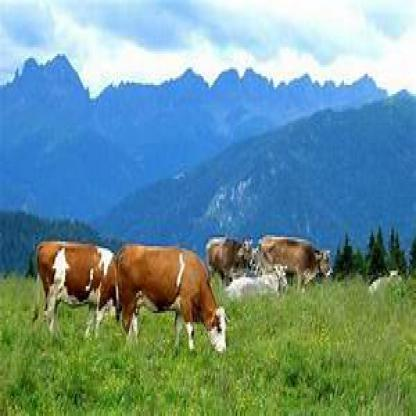cow: (117, 246, 230, 362), (35, 239, 118, 338), (261, 233, 334, 293)
